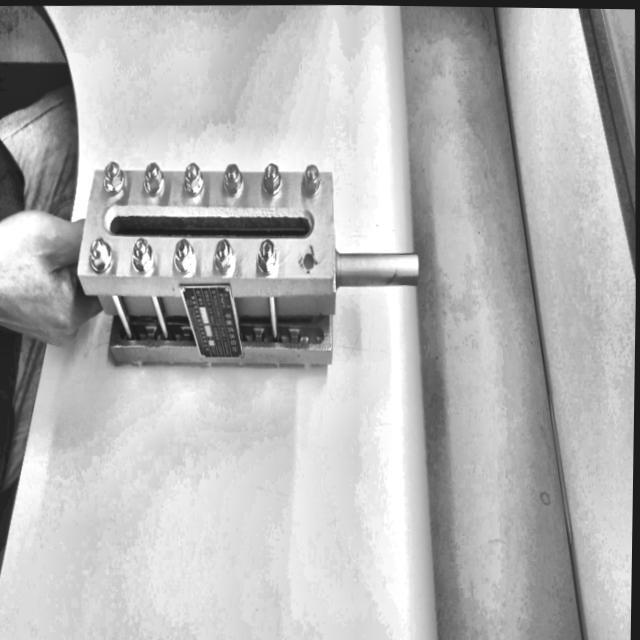ShuiWeiQi_11: (90, 108, 429, 400)
